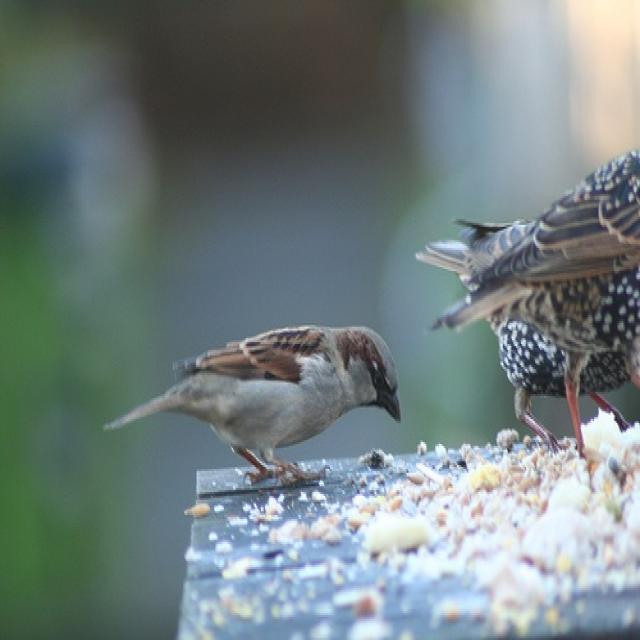bird: (422, 142, 639, 467), (100, 323, 403, 488), (414, 237, 638, 456)
